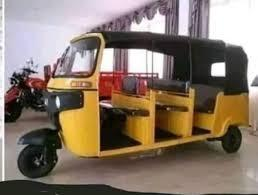keke: (37, 30, 255, 190)
